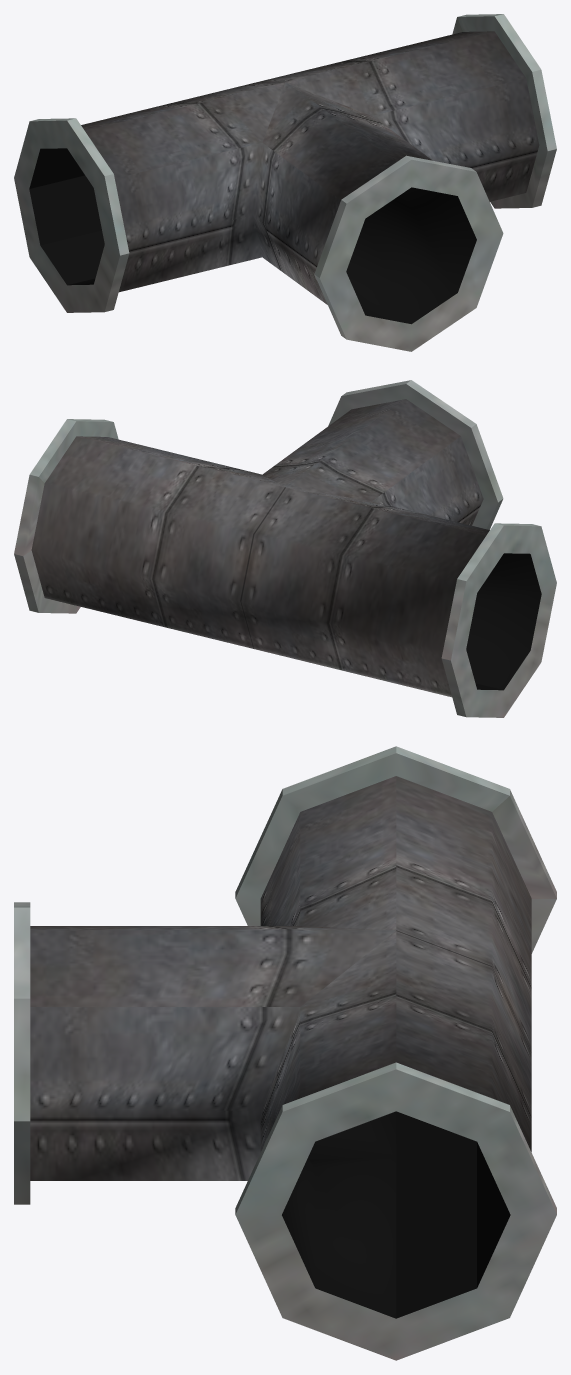
The model's file is pipe_T.glb.
3 views of the same model, one above another, from view 1: azimuth 30°, elevation 25°; view 2: azimuth 150°, elevation 25°; view 3: azimuth 270°, elevation 25° (orthographic). The views are drawn at different scales.
Parts seen in each view (by area): view 1: zhuti.T; view 2: zhuti.T; view 3: zhuti.T.
Part boxes in pixels (x1,y1,x2,y2): zhuti.T: (14, 14, 556, 351); zhuti.T: (14, 380, 556, 717); zhuti.T: (14, 746, 556, 1360).
Bounding box in the file's own units: 10 × 4.21 × 7.1.
1 material, 1 textured.
